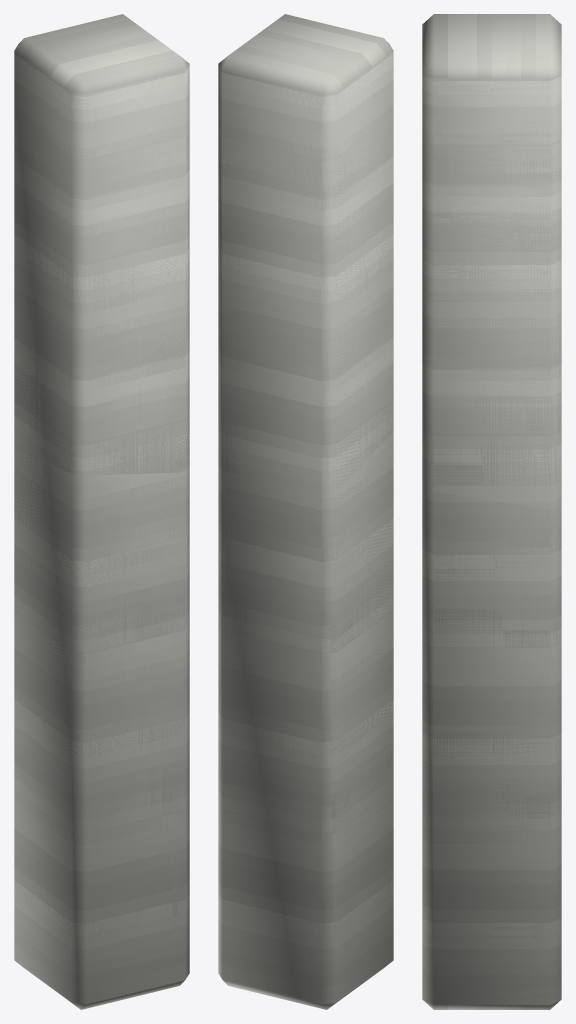
The model's file is baliza_branca.glb.
The picture shows the model from 3 angles, left to right: view 1: azimuth 30°, elevation 25°; view 2: azimuth 150°, elevation 25°; view 3: azimuth 270°, elevation 25°; orthographic projection.
Visible parts, largest first — view 1: Inteiro, Peca_00, Peca_01; view 2: Inteiro, Peca_00, Peca_01; view 3: Inteiro, Peca_01, Peca_00.
Boxes of the visible parts, x1=… form: Inteiro: x1=14, y1=14, x2=189, y2=1009; Peca_00: x1=14, y1=450, x2=189, y2=1003; Peca_01: x1=14, y1=55, x2=189, y2=474; Inteiro: x1=218, y1=14, x2=393, y2=1009; Peca_00: x1=218, y1=433, x2=393, y2=1002; Peca_01: x1=218, y1=55, x2=393, y2=495; Inteiro: x1=422, y1=14, x2=561, y2=1009; Peca_01: x1=422, y1=63, x2=561, y2=509; Peca_00: x1=422, y1=484, x2=561, y2=1004.
Size of the model in its own units: 0.12 by 0.9 by 0.12.
Materials: 1 (1 with a texture image).
